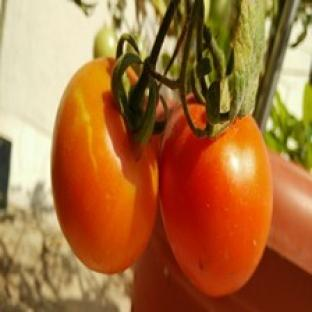Tomato: (52, 59, 158, 272), (159, 108, 272, 296), (94, 26, 116, 58)
